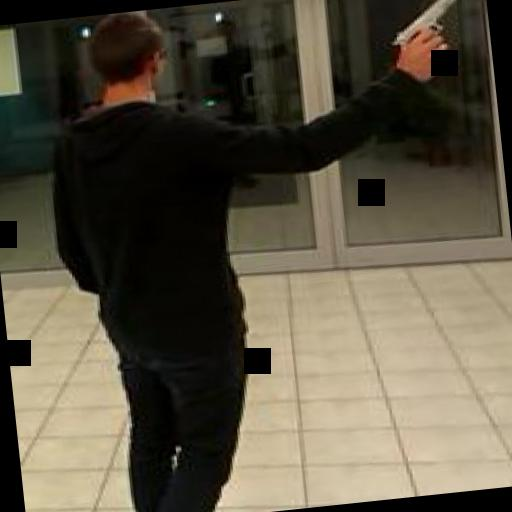Handgun: (381, 0, 457, 66)
